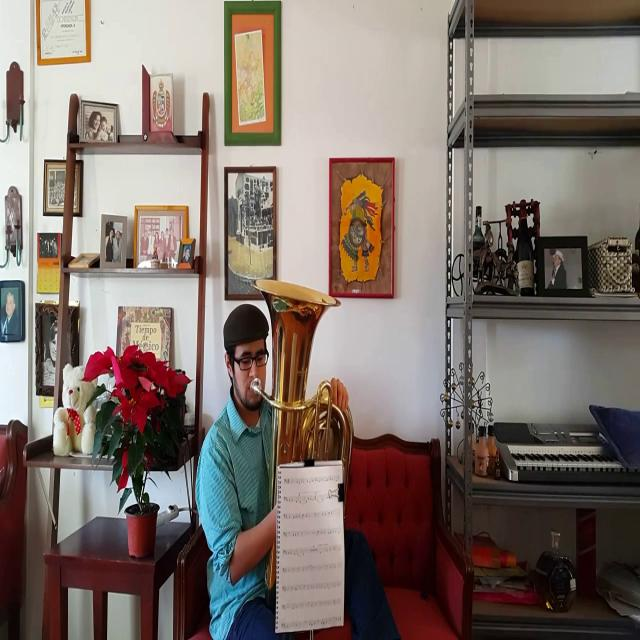Tuba: (253, 272, 352, 596)
